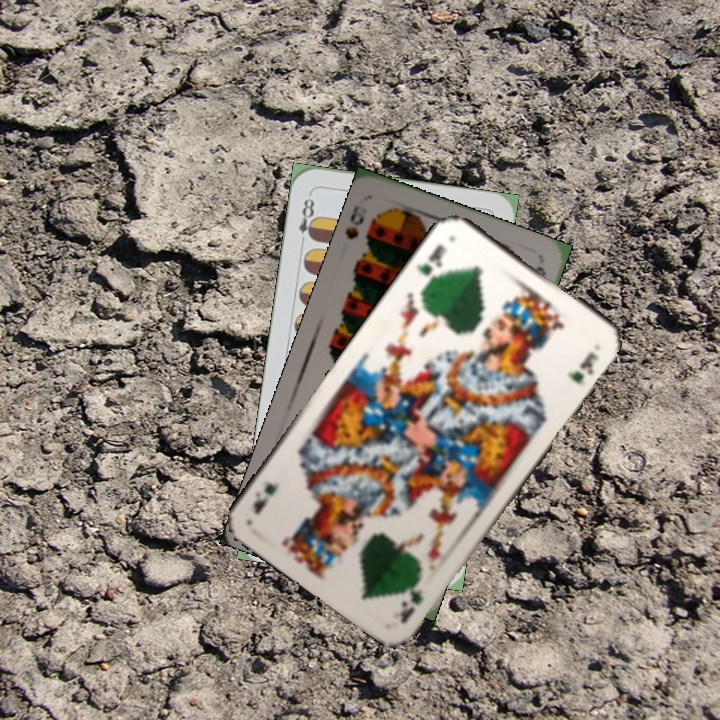E8: (294, 190, 320, 249)
GK: (412, 239, 449, 288), (396, 571, 428, 627)
S8: (341, 201, 367, 243)
